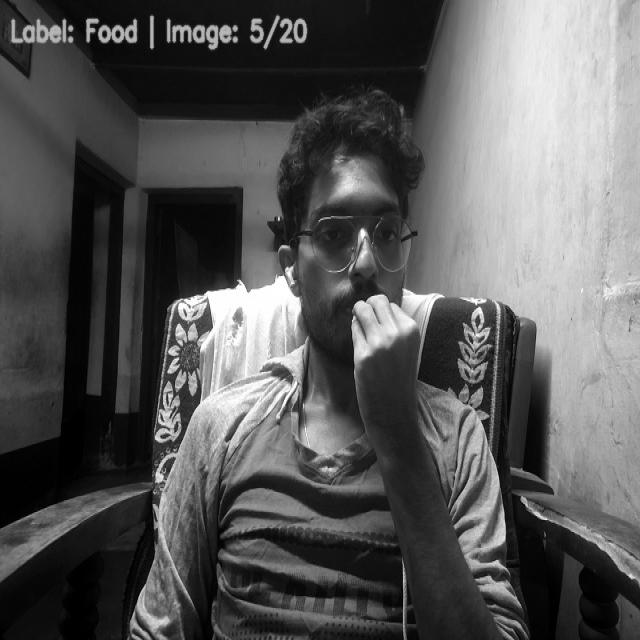Food: (350, 292, 426, 432)
